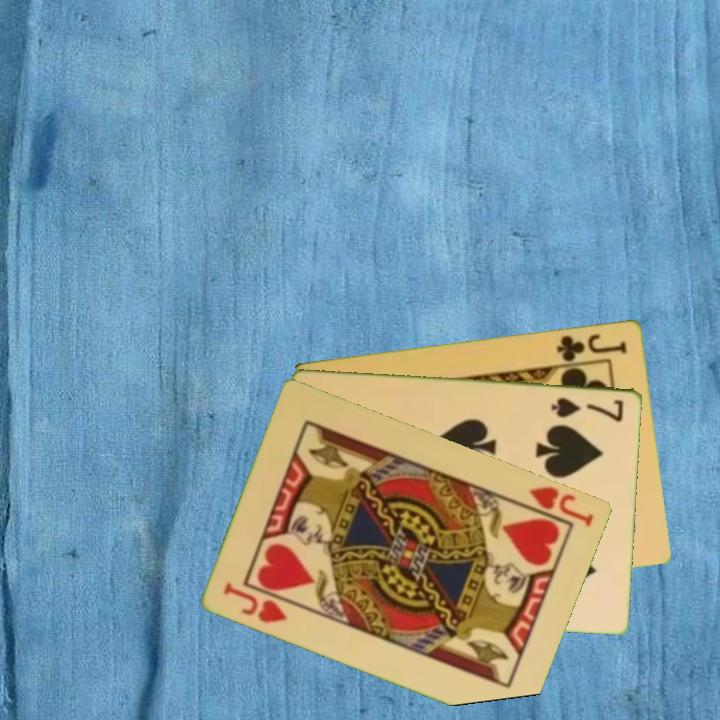7s: (548, 393, 627, 425)
Jc: (553, 330, 630, 364)
Jh: (514, 482, 598, 530), (220, 578, 291, 626)
